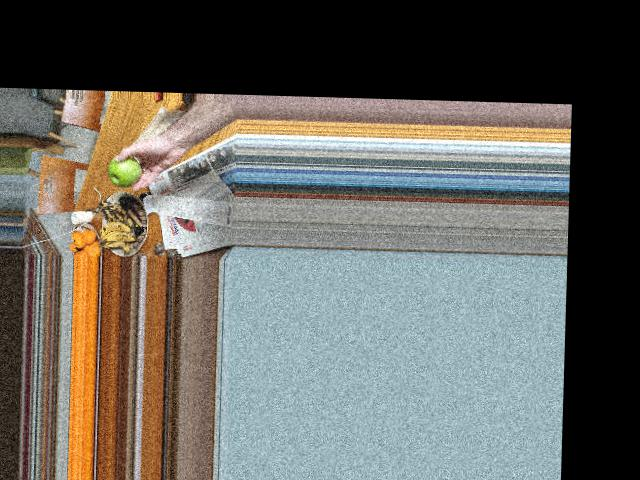apple: (105, 150, 147, 188)
